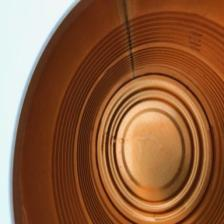metal: (9, 3, 224, 224)
